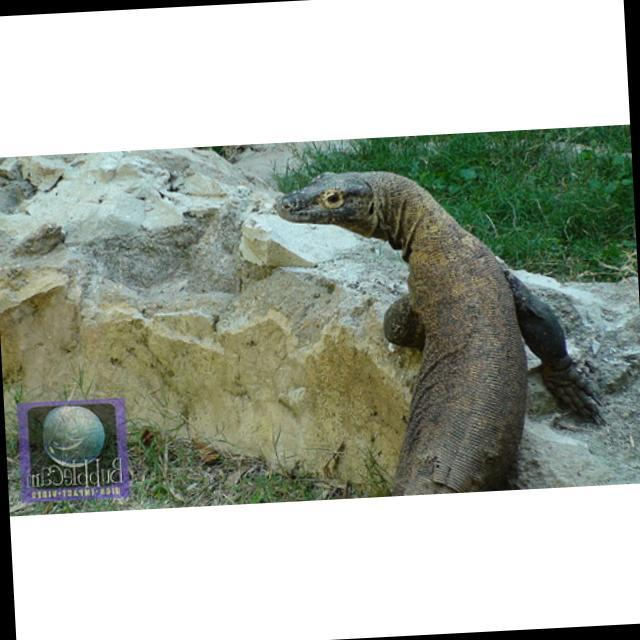KomodoDragon: (270, 151, 613, 496)
